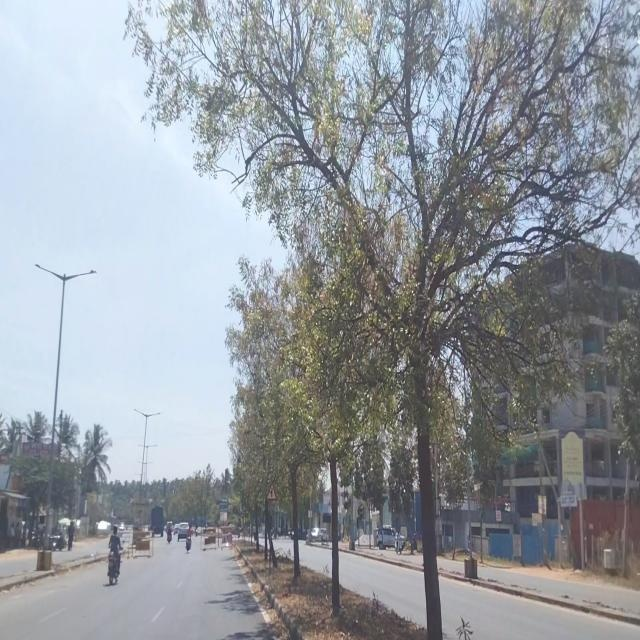bien_nguy_hiem: (266, 480, 278, 502)
